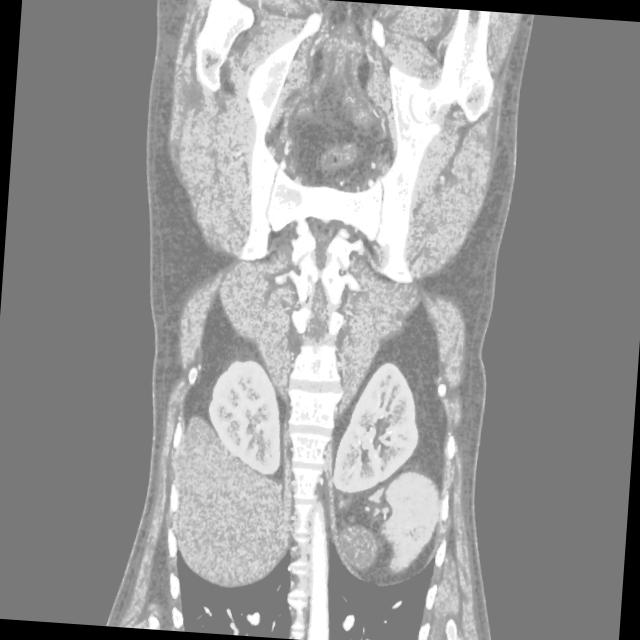NORMAL: (125, 102, 557, 590)
